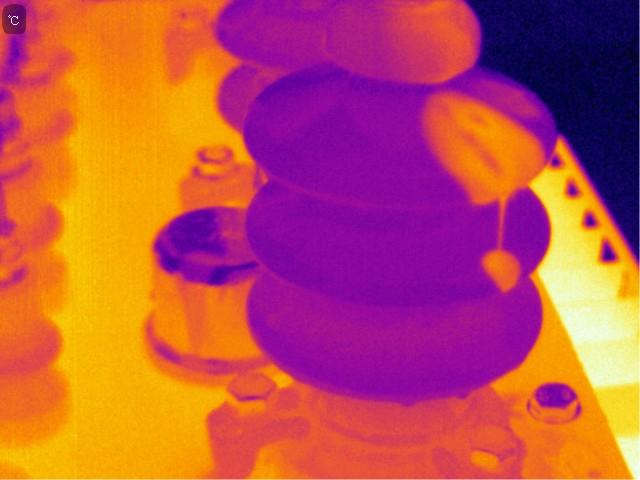Oil: (412, 89, 543, 205), (326, 1, 480, 87), (381, 1, 480, 86), (477, 245, 521, 294), (491, 203, 511, 246), (453, 386, 472, 402), (399, 396, 417, 408)
